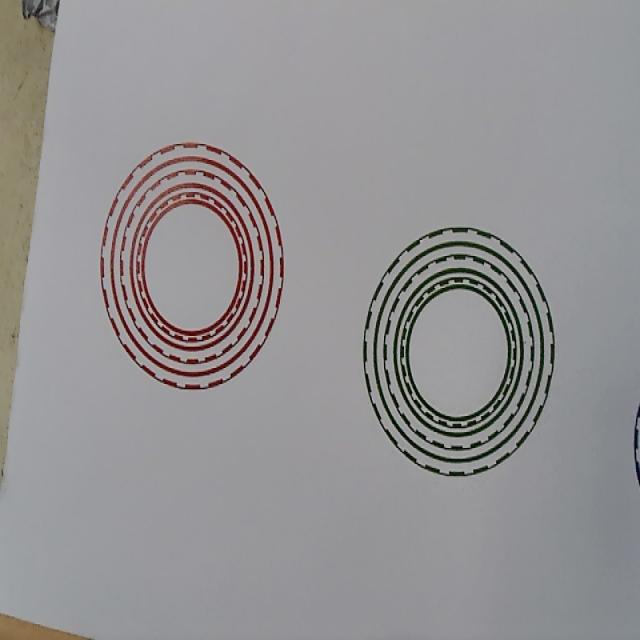g: (362, 224, 554, 478)
red-green-blue: (100, 143, 284, 391)
